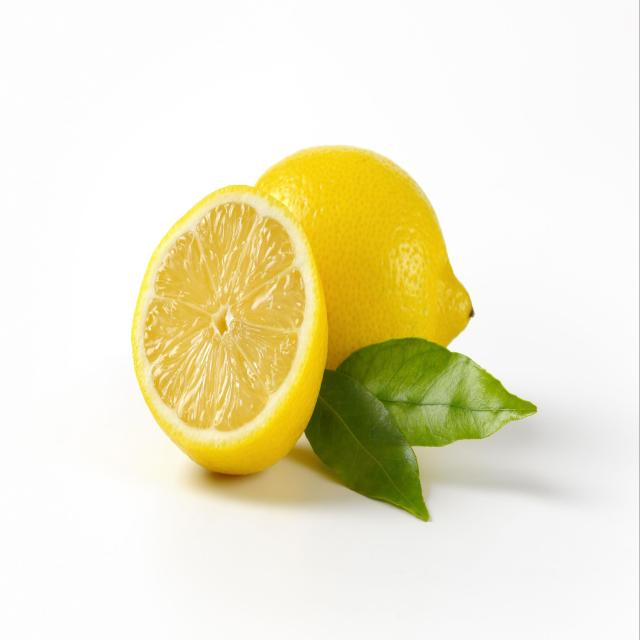lemon: (128, 178, 334, 478)
